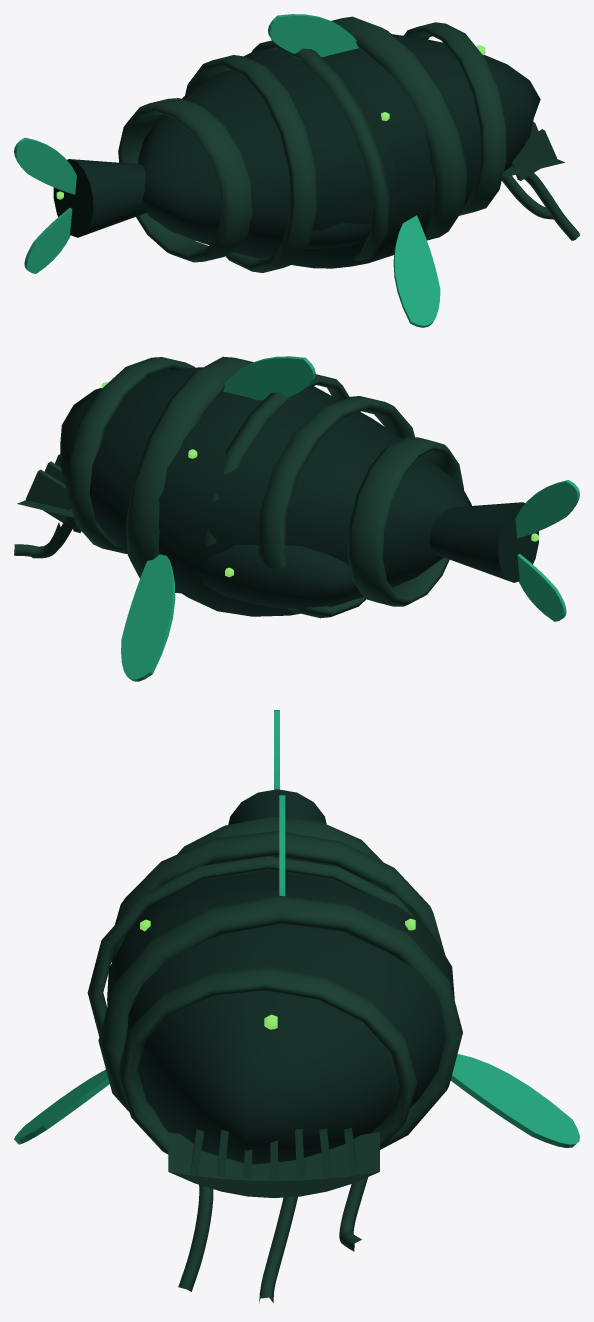
File: harvester-pelagia.glb
3 views of the same model, one above another, from view 1: azimuth 30°, elevation 25°; view 2: azimuth 150°, elevation 25°; view 3: azimuth 270°, elevation 25° (orthographic). The views are drawn at different scales.
Visible parts, largest first — view 1: hull, growth_ring_1, growth_ring_4, growth_ring_2, growth_ring_5, tail_peduncle, growth_ring_3, paddle_starboard, dorsal_blade, tail_fluke_upper, tail_fluke_lower, cargo_lobe_starboard (+4 smaller); view 2: hull, growth_ring_1, growth_ring_4, cargo_lobe_port, growth_ring_2, tail_peduncle, growth_ring_5, paddle_port, dorsal_blade, growth_ring_3, tail_fluke_upper, tail_fluke_lower (+2 smaller); view 3: hull, growth_ring_4, growth_ring_5, growth_ring_2, intake_scoop, growth_ring_3, paddle_port, growth_ring_1, tail_peduncle, paddle_starboard, feed_tendril_starboard, feed_tendril_mid (+1 smaller).
Boxes of the visible parts, x1,y1,x2,y2 form: hull: (138, 34, 540, 268); growth_ring_1: (118, 98, 252, 262); growth_ring_4: (331, 16, 467, 240); growth_ring_2: (185, 55, 316, 272); growth_ring_5: (403, 22, 506, 215); tail_peduncle: (53, 159, 146, 237); growth_ring_3: (252, 40, 389, 260); paddle_starboard: (393, 215, 440, 327); dorsal_blade: (268, 14, 358, 56); tail_fluke_upper: (14, 137, 76, 194); tail_fluke_lower: (24, 207, 72, 273); cargo_lobe_starboard: (305, 223, 371, 248); hull: (60, 367, 471, 616); growth_ring_1: (347, 437, 463, 606); growth_ring_4: (126, 356, 253, 593); cargo_lobe_port: (196, 545, 355, 608); growth_ring_2: (258, 396, 414, 618); tail_peduncle: (429, 502, 538, 582); growth_ring_5: (68, 357, 194, 553); paddle_port: (121, 554, 175, 681); dorsal_blade: (223, 356, 315, 400); growth_ring_3: (204, 374, 349, 547); tail_fluke_upper: (515, 480, 579, 538); tail_fluke_lower: (517, 554, 566, 621); hull: (107, 855, 454, 1164); growth_ring_4: (98, 895, 462, 1149); growth_ring_5: (117, 967, 417, 1154); growth_ring_2: (111, 831, 445, 962); intake_scoop: (168, 1132, 379, 1197); growth_ring_3: (87, 856, 415, 1036); paddle_port: (450, 1054, 579, 1147); growth_ring_1: (177, 817, 382, 861); tail_peduncle: (228, 789, 326, 824); paddle_starboard: (14, 1069, 109, 1144); feed_tendril_starboard: (178, 1185, 213, 1291); feed_tendril_mid: (259, 1160, 297, 1302).
Bounding box in the file's own units: 73.63 × 34.59 × 51.88.
